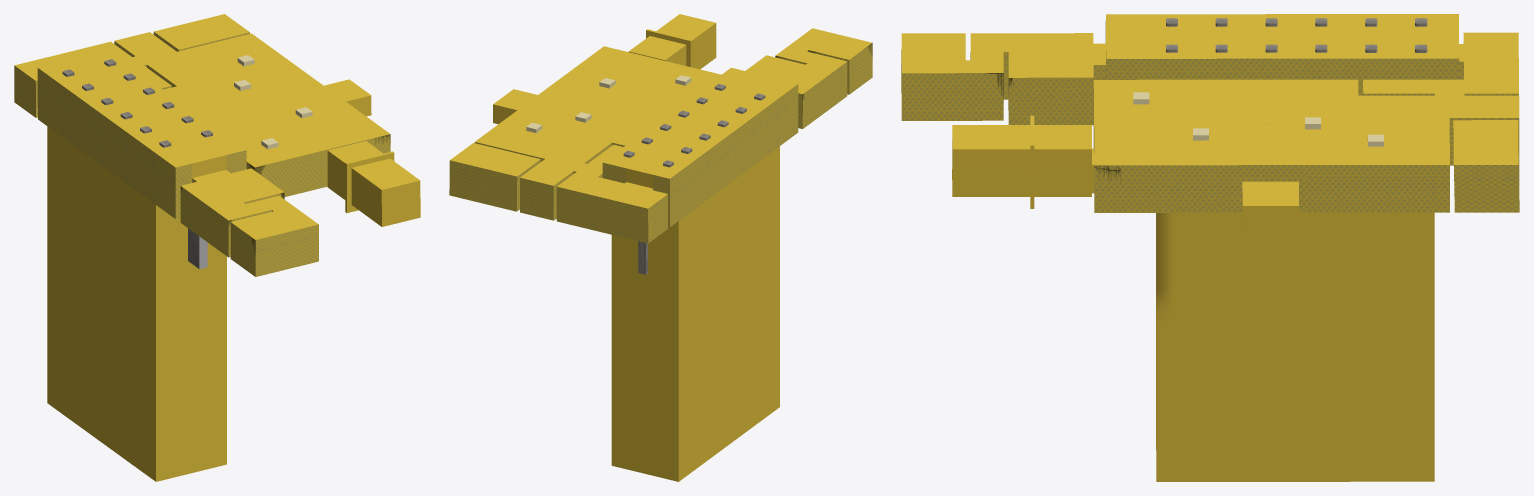
Rendered from map(comp).fbx.
The picture shows the model from 3 angles, left to right: view 1: azimuth 30°, elevation 25°; view 2: azimuth 150°, elevation 25°; view 3: azimuth 270°, elevation 25°; orthographic projection. The views are drawn at different scales.
Parts seen in each view (by area): view 1: polySurface3, pCube3, map_0011:pCube8; view 2: polySurface3, pCube3; view 3: polySurface3.
Part boxes in pixels (<box>): polySurface3: <box>14,14,420,481</box>; pCube3: <box>345,151,394,212</box>; map_0011:pCube8: <box>188,228,207,269</box>; polySurface3: <box>449,14,872,481</box>; pCube3: <box>646,29,692,67</box>; polySurface3: <box>901,14,1519,481</box>.
Bounding box in the file's own units: 410 × 519 × 682.
Materials: 2 (2 with a texture image).
